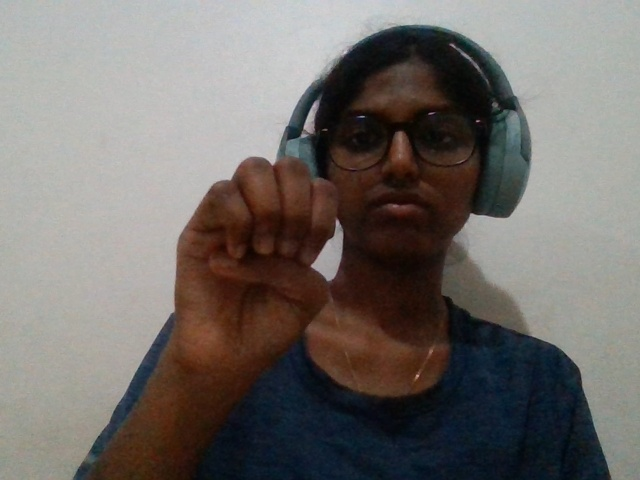E: (132, 137, 401, 457)
